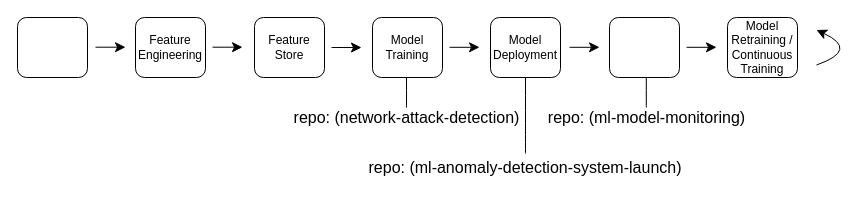
The diagram is 858 pixels wide and 205 high, and some of its shapes have lost their labels. The centre of each missing label's shape, as x and y in pixels:
"Data" goes at (52,47).
"Monitoring & Drift Detection" goes at (644,47).
